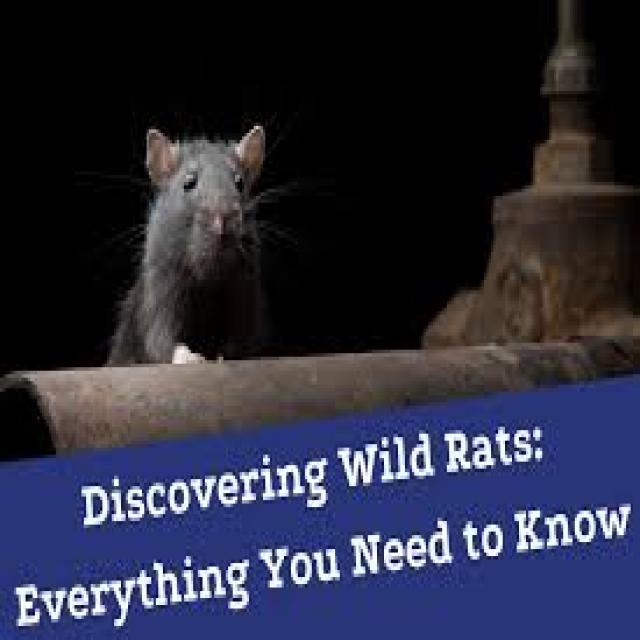rat: (103, 119, 274, 364)
